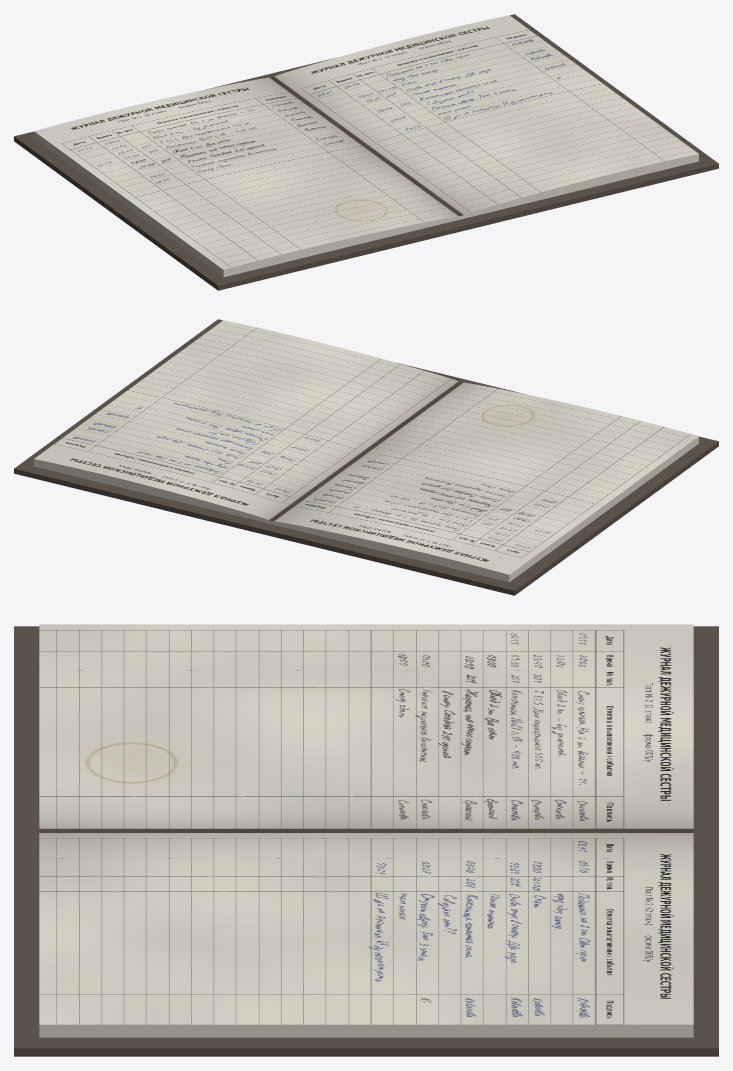
The model's file is Journal_Floor2.fbx.
3 views of the same model, one above another, from view 1: azimuth 30°, elevation 25°; view 2: azimuth 150°, elevation 25°; view 3: azimuth 270°, elevation 25° (orthographic). The views are drawn at different scales.
Visible parts, largest first — view 1: Journal_Floor2; view 2: Journal_Floor2; view 3: Journal_Floor2.
Part boxes in pixels (x1,y1,x2,y2): Journal_Floor2: (14,14,718,290); Journal_Floor2: (14,319,718,595); Journal_Floor2: (14,624,718,1056).
Bounding box in the file's own units: 0.316 × 0.00825 × 0.2232.
3 materials, 1 textured.
